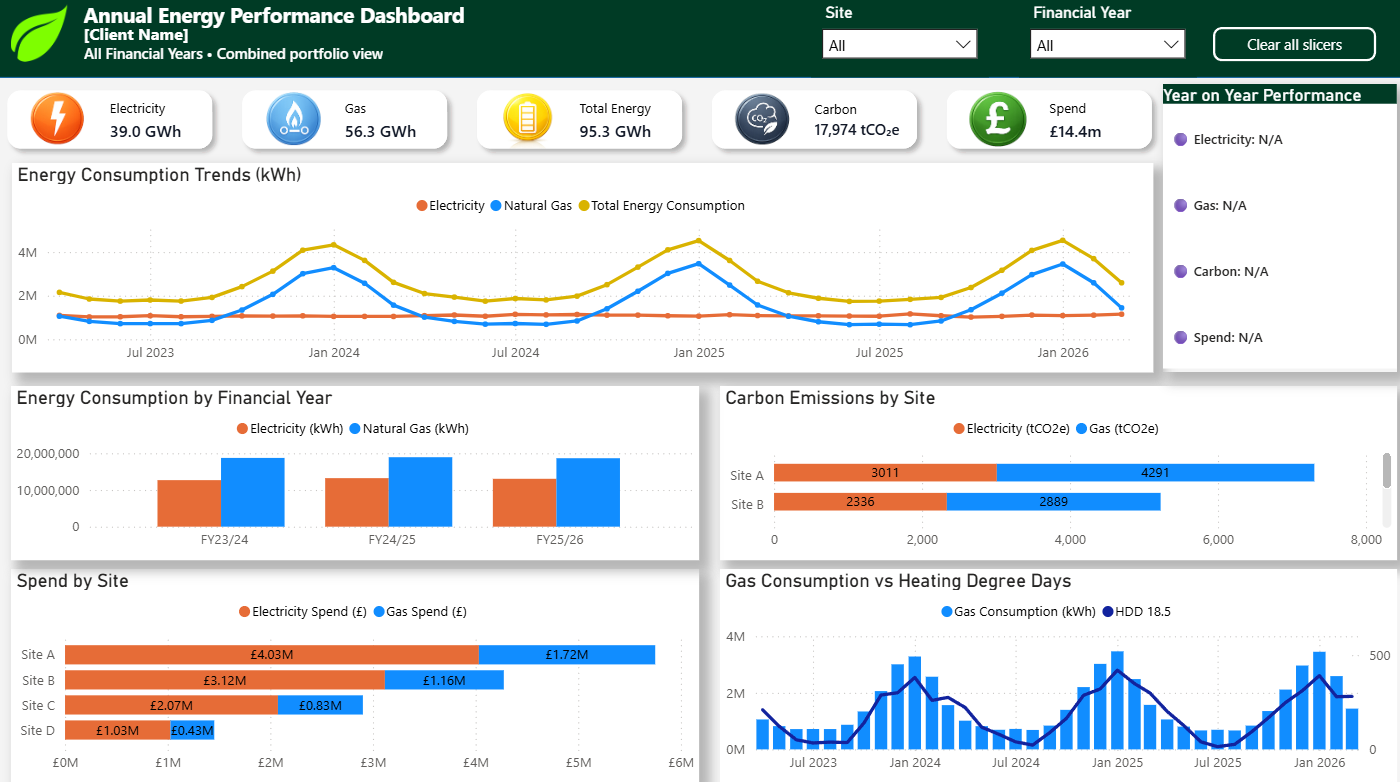

This screenshot's page, from the dashboard's own definition file:
{"tool":"powerbi","page":{"name":"Energy Performance Dashboard","canvas":[1280,720],"ordinal":0},"visuals":[{"type":"cardVisual","fields":{"Data":["Site_Summary.Electricity KPI","Site_Summary.Gas KPI","Site_Summary.Total Energy KPI","Site_Summary.Carbon KPI","Site_Summary.Spend KPI"]},"box":[0,74.5,1063.2,77.9],"z":0},{"type":"lineChart","title":"Energy Consumption Trends (kWh)","fields":{"Y":["Sum(Site_Summary.Electricity (kWh))","Sum(Site_Summary.Gas (kWh))","Site_Summary.Total Energy Consumption (kWh)"],"Category":["DateTable.Date"]},"box":[16,152.4,1035.2,189.9],"z":1000},{"type":"barChart","title":"Carbon Emissions by Site","fields":{"Category":["Site_Summary.Site"],"Y":["Sum(Site_Summary.Electricity (tCO2e))","Sum(Site_Summary.Gas (tCO2e))"]},"box":[658.5,354.4,613.7,157.6],"z":2000},{"type":"barChart","title":"Spend by Site","fields":{"Category":["Site_Summary.Site"],"Y":["Sum(Site_Summary.Electricity Spend (£))","Sum(Site_Summary.Gas Spend (£))"]},"box":[15.6,520.8,624.4,193.6],"z":3000},{"type":"clusteredColumnChart","title":"Energy Consumption by Financial Year","fields":{"Y":["Sum(Site_Summary.Electricity (kWh))","Sum(Site_Summary.Gas (kWh))"],"Category":["DateTable.FY"]},"box":[15.6,354.4,624.4,157.6],"z":4000},{"type":"shape","box":[0,0,1280.4,75.3],"z":5000},{"type":"textbox","box":[75.9,0,616.5,36],"z":6000},{"type":"slicer","fields":{"Values":["Site_Summary.Site"]},"box":[740.9,2.7,160.5,71.6],"z":8000},{"type":"slicer","fields":{"Values":["DateTable.FY"]},"box":[929.5,2.7,160.5,71.6],"z":9000},{"type":"image","box":[15.6,2.9,50.6,64.2],"z":10000},{"type":"lineStackedColumnComboChart","title":"Gas Consumption vs Heating Degree Days","fields":{"Category":["DateTable.Date"],"Y":["Sum(Site_Summary.Gas (kWh))"],"Y2":["Avg(HDD_18 5C.HDD 18.5)"]},"box":[658.5,520.8,613.7,193.6],"z":11000},{"type":"actionButton","box":[1105.1,29,147.9,31],"z":12000},{"type":"cardVisual","title":"Year on Year Performance","fields":{"Data":["Site_Summary.Electricity Insight","Site_Summary.Gas Insight","Site_Summary.Carbon Insight","Site_Summary.Spend Insight"]},"box":[1060.2,81.1,212,260.7],"z":13000},{"type":"textbox","box":[75.9,20,299.8,31],"z":14000},{"type":"cardVisual","fields":{"Data":["Site_Summary.Executive Summary"]},"box":[52.5,24.3,620.5,55.4],"z":14001}]}

Visuals, with their boxes in screenshot pixels (x1, y1, x2, y2), scaled from the page's 1280x720 canvas onto the 1400x782 screenshot:
cardVisual - Site_Summary.Electricity KPI x Site_Summary.Gas KPI: bbox=[0, 81, 1163, 166]
"Energy Consumption Trends (kWh)" lineChart: bbox=[18, 166, 1150, 372]
"Carbon Emissions by Site" barChart: bbox=[720, 385, 1391, 556]
"Spend by Site" barChart: bbox=[17, 566, 700, 776]
"Energy Consumption by Financial Year" clusteredColumnChart: bbox=[17, 385, 700, 556]
shape: bbox=[0, 0, 1399, 82]
textbox: bbox=[83, 0, 757, 39]
slicer - Site_Summary.Site: bbox=[810, 3, 986, 81]
slicer - DateTable.FY: bbox=[1017, 3, 1192, 81]
image: bbox=[17, 3, 72, 73]
"Gas Consumption vs Heating Degree Days" lineStackedColumnComboChart: bbox=[720, 566, 1391, 776]
actionButton: bbox=[1209, 31, 1370, 65]
"Year on Year Performance" cardVisual: bbox=[1160, 88, 1391, 371]
textbox: bbox=[83, 22, 411, 55]
cardVisual - Site_Summary.Executive Summary: bbox=[57, 26, 736, 87]
